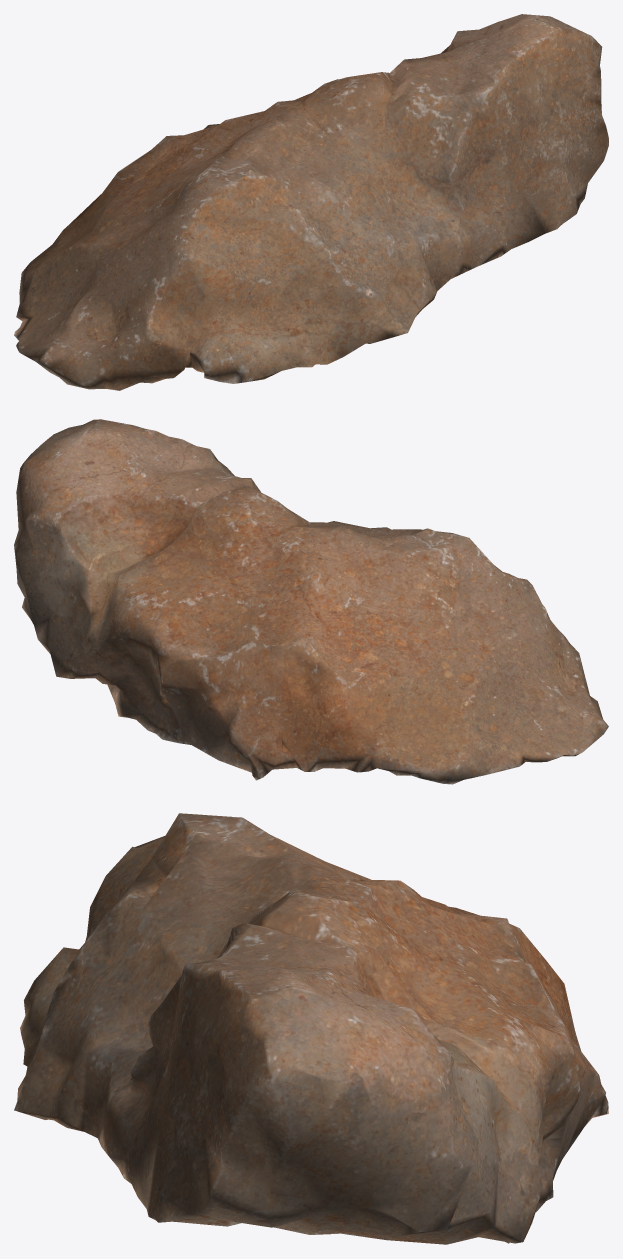
Rendered from SM_xjucddrh_tier_2.gltf.
The picture shows the model from 3 angles, top to bottom: view 1: azimuth 30°, elevation 25°; view 2: azimuth 150°, elevation 25°; view 3: azimuth 270°, elevation 25°; orthographic projection. The views are drawn at different scales.
Visible parts, largest first — view 1: xjucddrh_LOD2_TIER2_000; view 2: xjucddrh_LOD2_TIER2_000; view 3: xjucddrh_LOD2_TIER2_000.
Boxes of the visible parts, <box> form: xjucddrh_LOD2_TIER2_000: <box>14,14,608,390</box>; xjucddrh_LOD2_TIER2_000: <box>14,419,608,784</box>; xjucddrh_LOD2_TIER2_000: <box>14,813,608,1244</box>.
Size of the model in its own units: 0.2005 by 0.0748 by 0.1206.
Materials: 1 (1 with a texture image).
